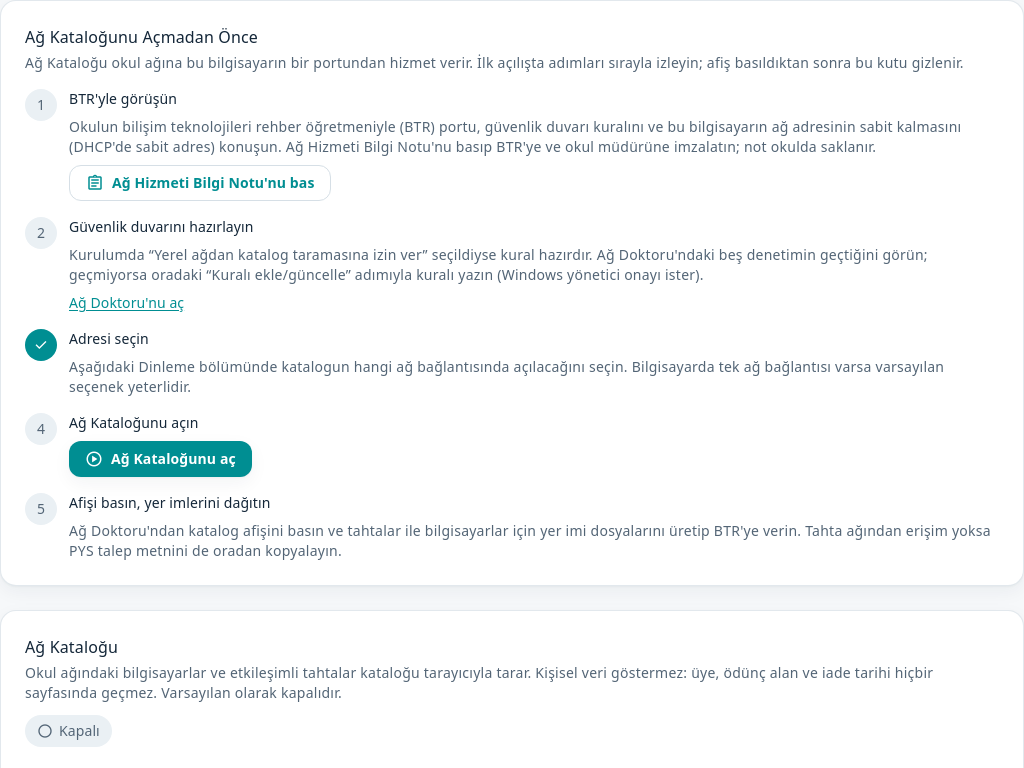
Test: Ağ Kataloğu — aç/kapa › açar ve bildirir; açılamazsa gerekçeyi verir
The image size is (1024, 768).
Click the button "Ağ Kataloğunu aç" at (160, 459), box [69,441,252,477]
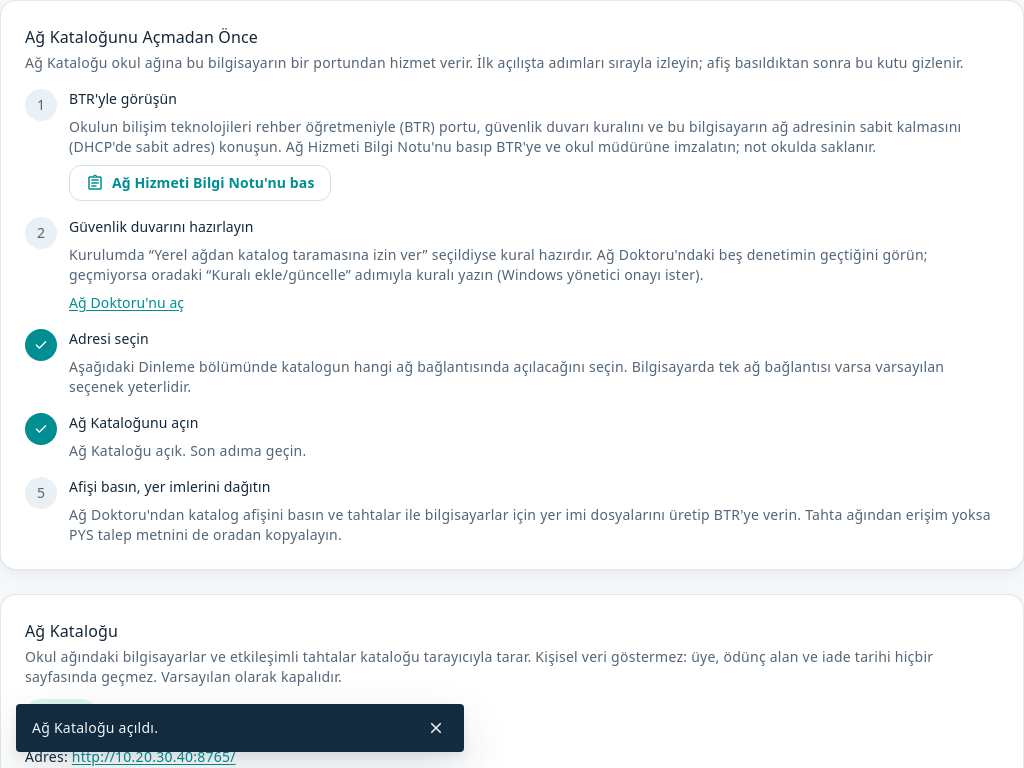
Expected: the text "Ağ Kataloğu açıldı." is shown, [32,718,158,737]
